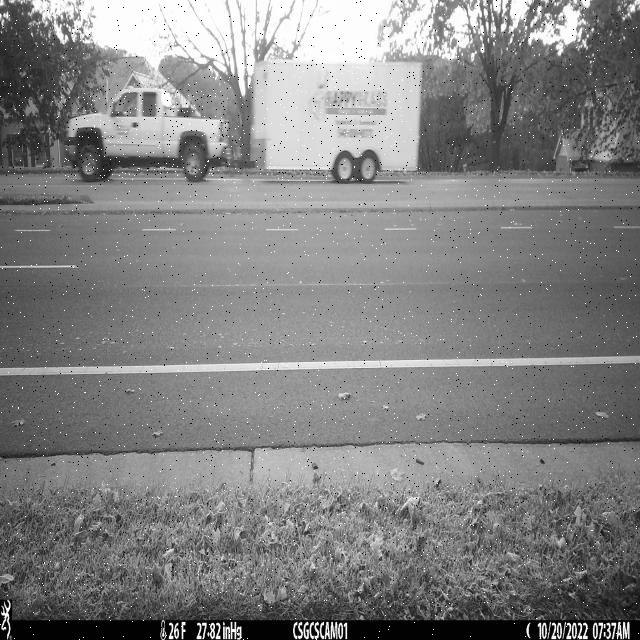Pickup: (63, 88, 228, 183)
Trailer: (229, 60, 423, 184)
